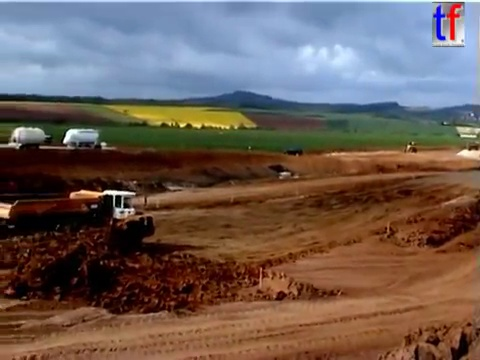truck: (1, 187, 149, 249), (7, 123, 54, 152), (61, 126, 109, 152), (402, 139, 419, 154)
